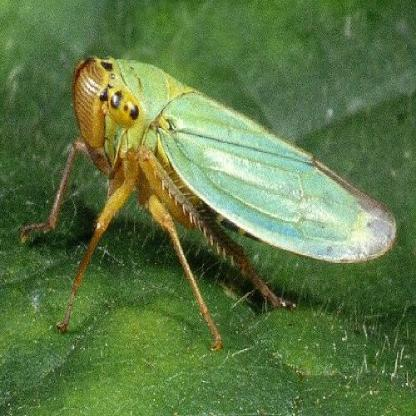Green-Leafhopper: (23, 49, 394, 351)
